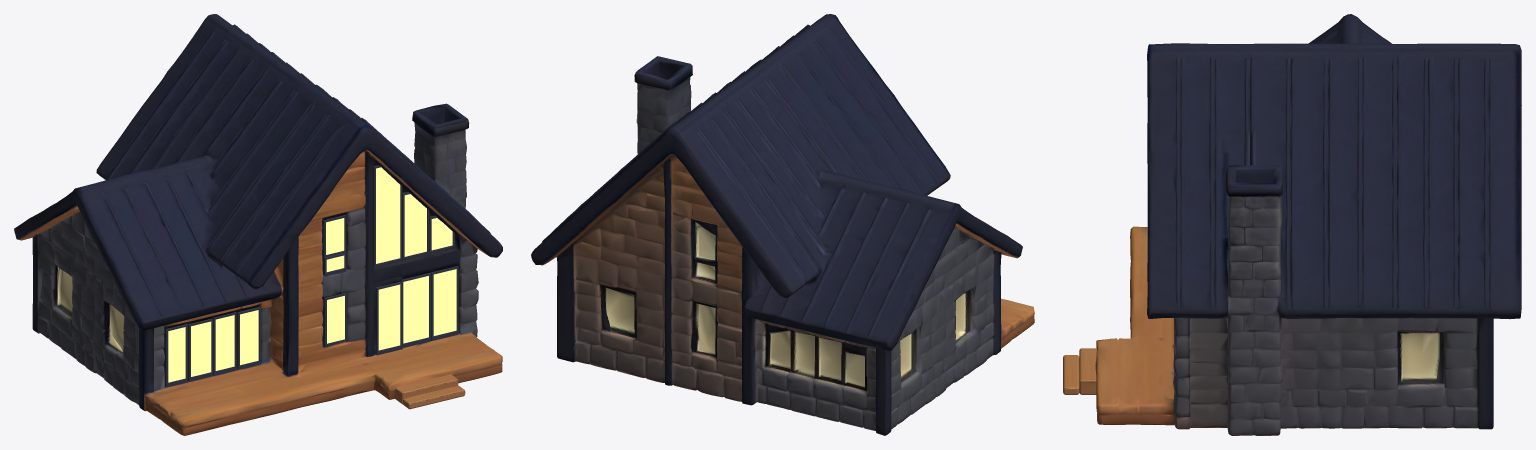
File: 16-casa-v2.glb
The picture shows the model from 3 angles, left to right: view 1: azimuth 30°, elevation 25°; view 2: azimuth 150°, elevation 25°; view 3: azimuth 270°, elevation 25°; orthographic projection. The views are drawn at different scales.
Visible parts, largest first — view 1: tripo_node_dc6fb0bd-3b5d-4749-a0be-e25713b4437e; view 2: tripo_node_dc6fb0bd-3b5d-4749-a0be-e25713b4437e; view 3: tripo_node_dc6fb0bd-3b5d-4749-a0be-e25713b4437e.
Boxes of the visible parts, left/top/right/bottom form: tripo_node_dc6fb0bd-3b5d-4749-a0be-e25713b4437e: left=14, top=14, right=502, bottom=435; tripo_node_dc6fb0bd-3b5d-4749-a0be-e25713b4437e: left=531, top=14, right=1034, bottom=435; tripo_node_dc6fb0bd-3b5d-4749-a0be-e25713b4437e: left=1063, top=14, right=1521, bottom=435.
Bounding box in the file's own units: 1 × 0.7225 × 0.9587.
Materials: 3 (1 with a texture image).
